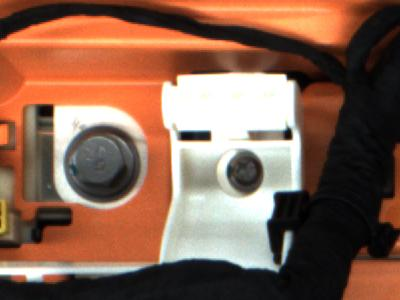nut_b: (62, 127, 145, 205)
